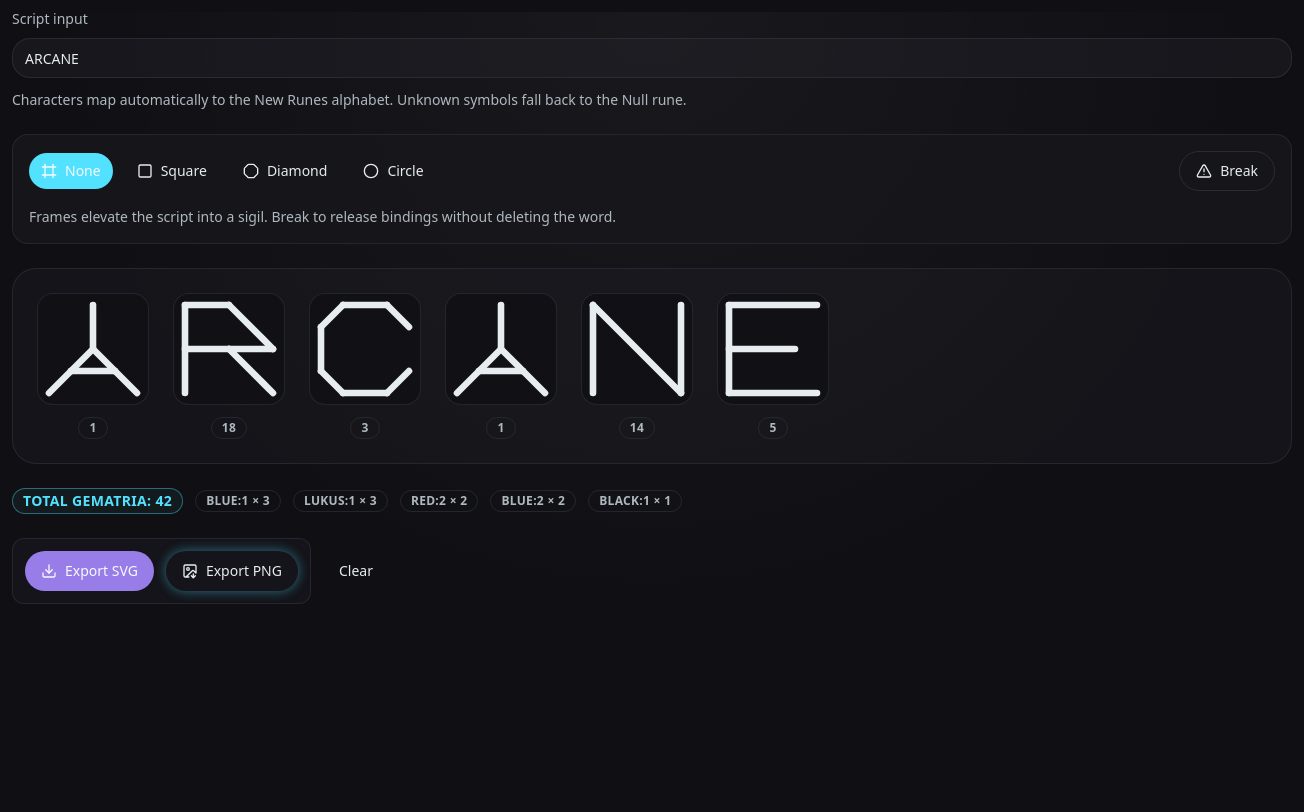
Test case: WordComposer › renders runes for text input and calculates totals
This screenshot has width=1304, height=812.
Replace the text in the field labelled "Script input" with "AB" at (652, 58), box [12,38,1292,78]
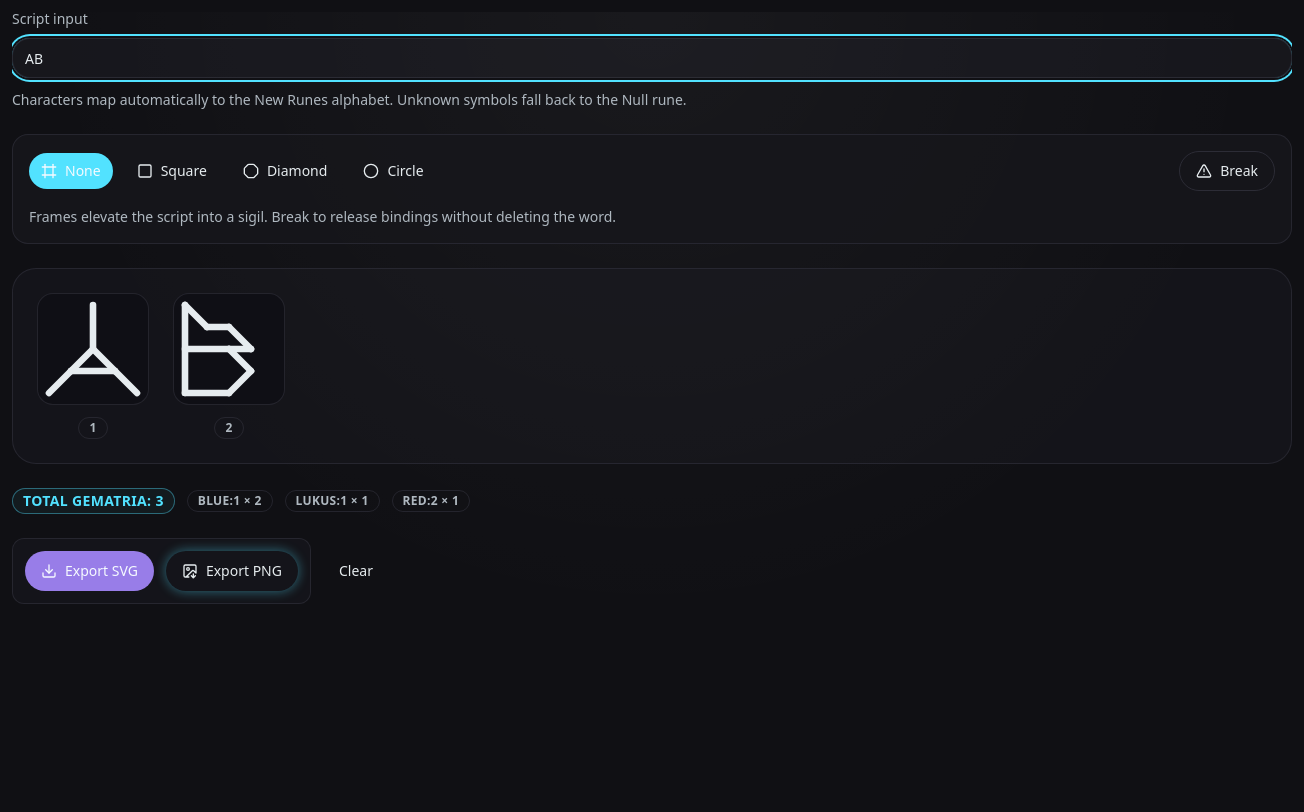
Check: the text "Total Gematria: 3" is shown, box [12,488,175,514]
